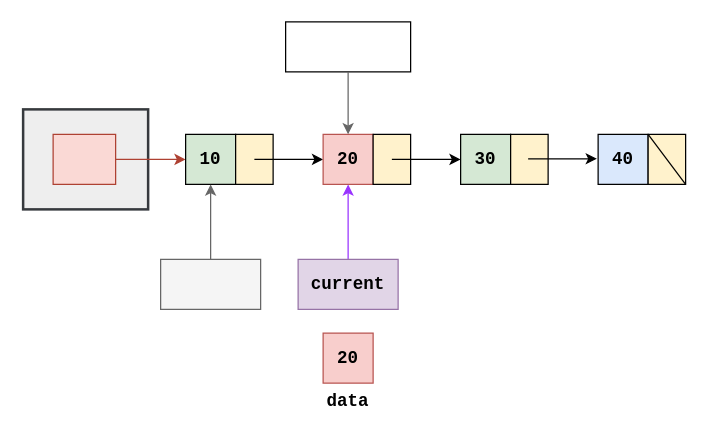
Some shapes in this 709 by 443 pixel diagram are drawn without their labels. The centre of each missing label's shape, as x and y in pixels:
"head" belongs at [84,158].
"prev" belongs at [210,283].
"removedNode" belongs at [347,46].
